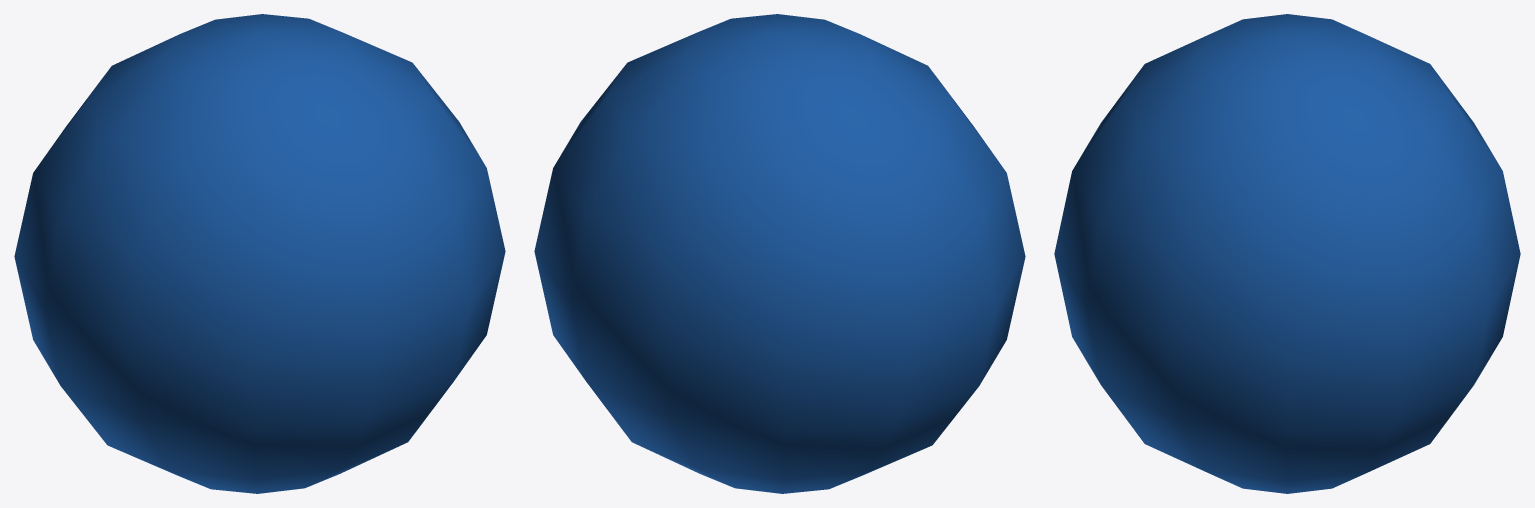
File: states.glb
3 renders of one model, left to right at view 1: azimuth 30°, elevation 25°; view 2: azimuth 150°, elevation 25°; view 3: azimuth 270°, elevation 25°, orthographic.
Parts seen in each view (by area): view 1: sample.mesh; view 2: sample.mesh; view 3: sample.mesh.
Part boxes in pixels (bbox=[...]): sample.mesh: bbox=[14, 14, 505, 493]; sample.mesh: bbox=[534, 14, 1025, 493]; sample.mesh: bbox=[1054, 14, 1520, 493].
Bounding box in the file's own units: 2.17 × 2.1 × 2.05.
